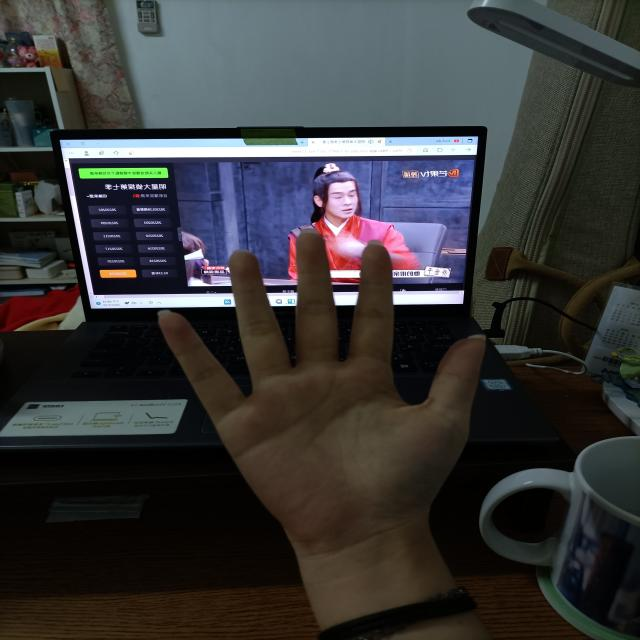no_glove: (148, 218, 505, 572)
